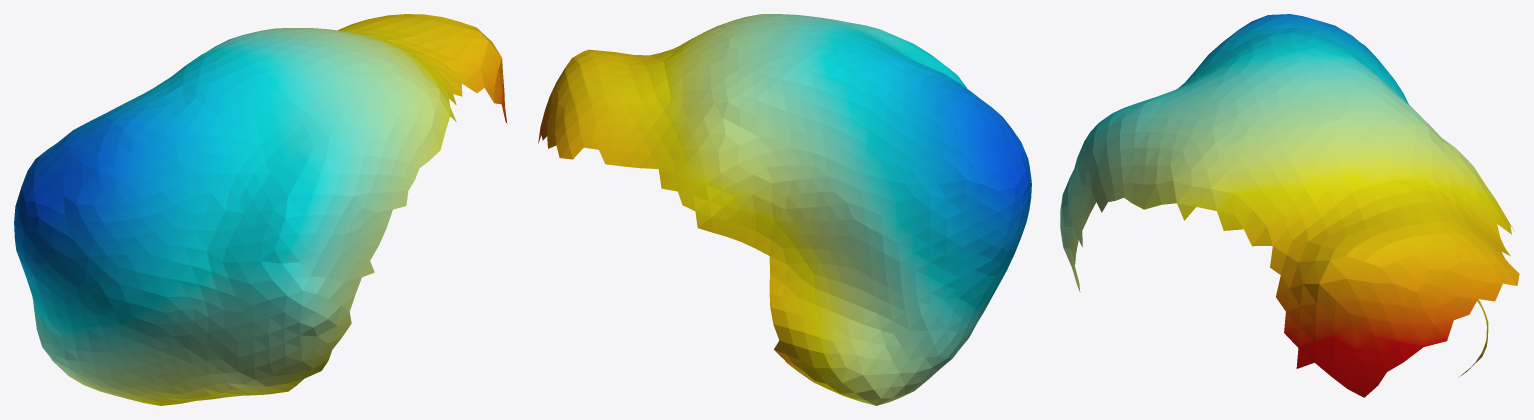
File: aneurysm.glb
The picture shows the model from 3 angles, left to right: view 1: azimuth 30°, elevation 25°; view 2: azimuth 150°, elevation 25°; view 3: azimuth 270°, elevation 25°; orthographic projection. The views are drawn at different scales.
Parts seen in each view (by area): view 1: world; view 2: world; view 3: world.
Part boxes in pixels (bbox=[...]): world: bbox=[14, 14, 507, 405]; world: bbox=[538, 14, 1031, 405]; world: bbox=[1060, 14, 1519, 397].
Size of the model in its own units: 8.16 by 5.26 by 5.82.
